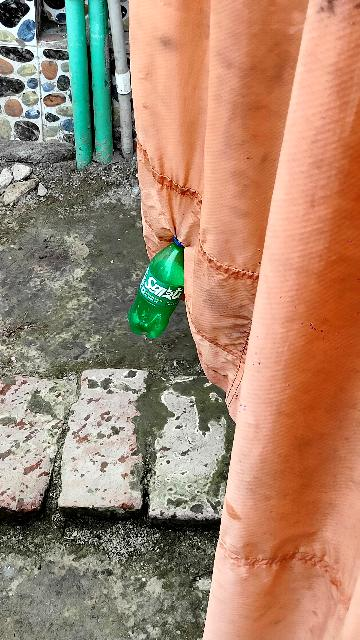bottle: (119, 221, 203, 344)
